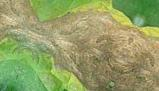Tomato mold leaf: (6, 0, 144, 91)
